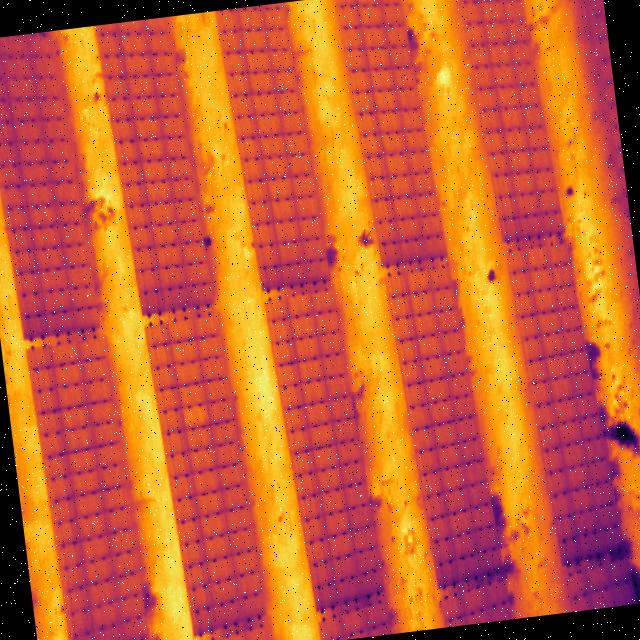Hotspot: (181, 403, 209, 428)
